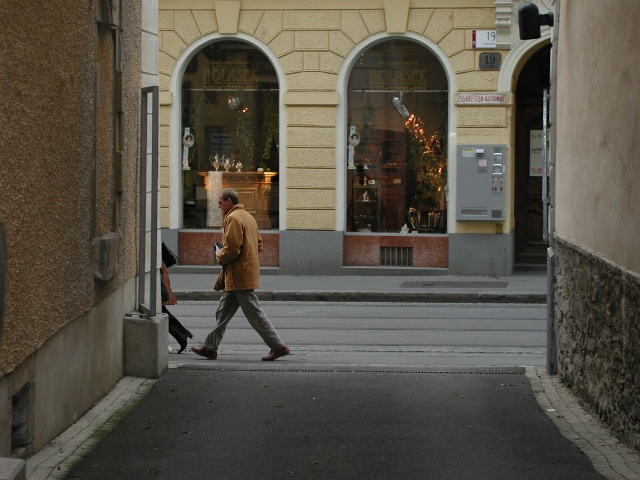person: (203, 189, 274, 362)
